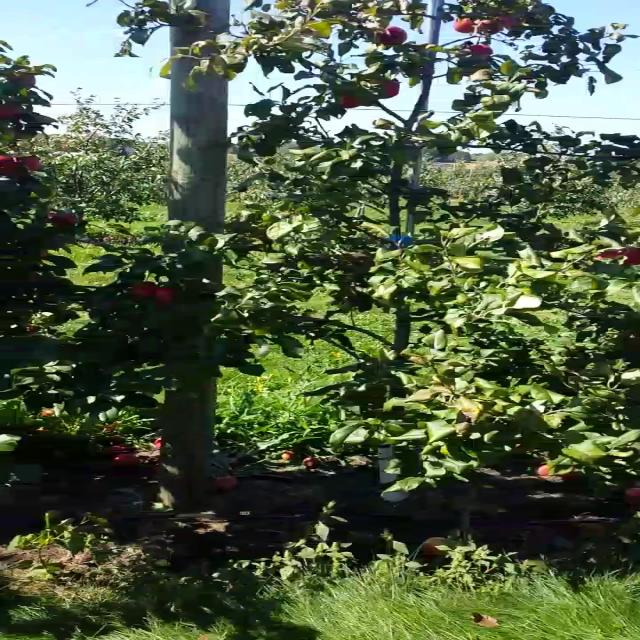apple: (597, 248, 639, 265), (375, 25, 405, 47), (475, 20, 505, 35), (131, 281, 158, 297), (339, 91, 360, 109), (1, 156, 19, 177), (1, 104, 25, 119), (454, 19, 476, 35), (382, 78, 399, 98), (156, 287, 173, 307), (52, 214, 79, 225), (21, 156, 41, 170), (469, 45, 495, 55), (495, 16, 513, 28)
